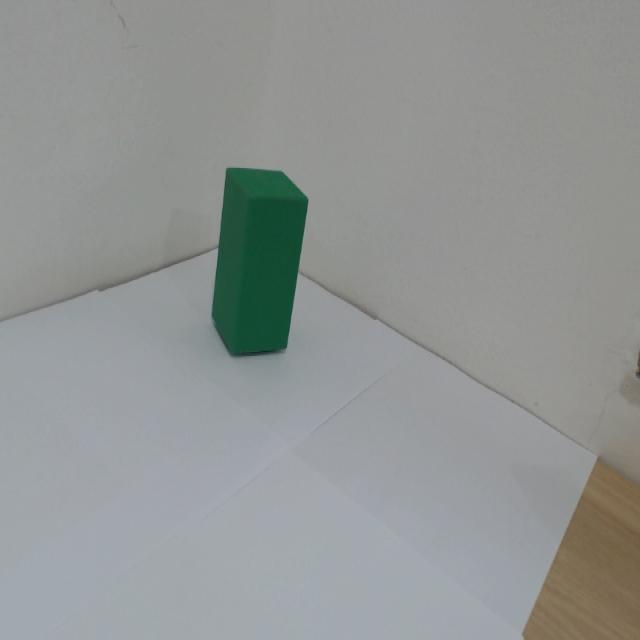cube: (204, 126, 325, 391)
